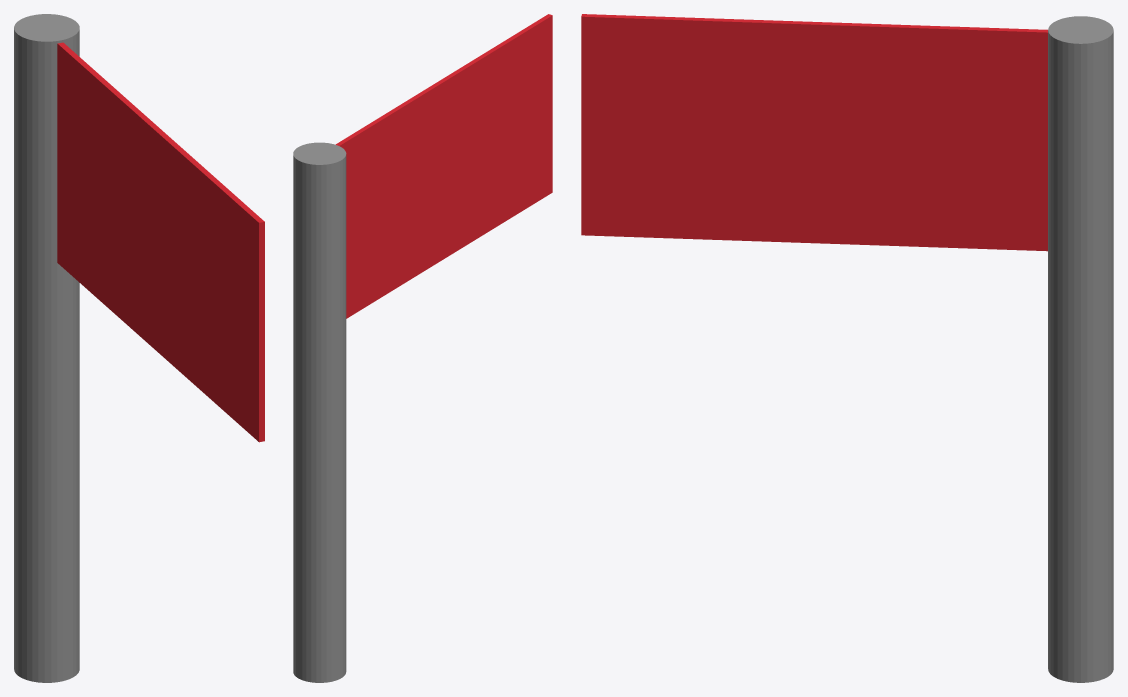
Rendered from Flag.fbx.
3 renders of one model, left to right at view 1: azimuth 30°, elevation 25°; view 2: azimuth 150°, elevation 25°; view 3: azimuth 270°, elevation 25°, orthographic. The views are drawn at different scales.
Parts seen in each view (by area): view 1: Cylinder; view 2: Cylinder; view 3: Cylinder.
Boxes of the visible parts, box(x1,y1,x2,y2) form: Cylinder: box(14, 14, 264, 682); Cylinder: box(293, 14, 552, 682); Cylinder: box(581, 14, 1113, 682).
Bounding box in the file's own units: 44.59 × 410 × 310.
